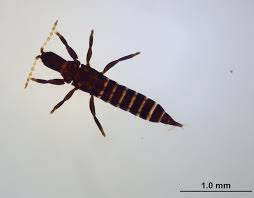Phlaeothripidae: (23, 20, 185, 137)
